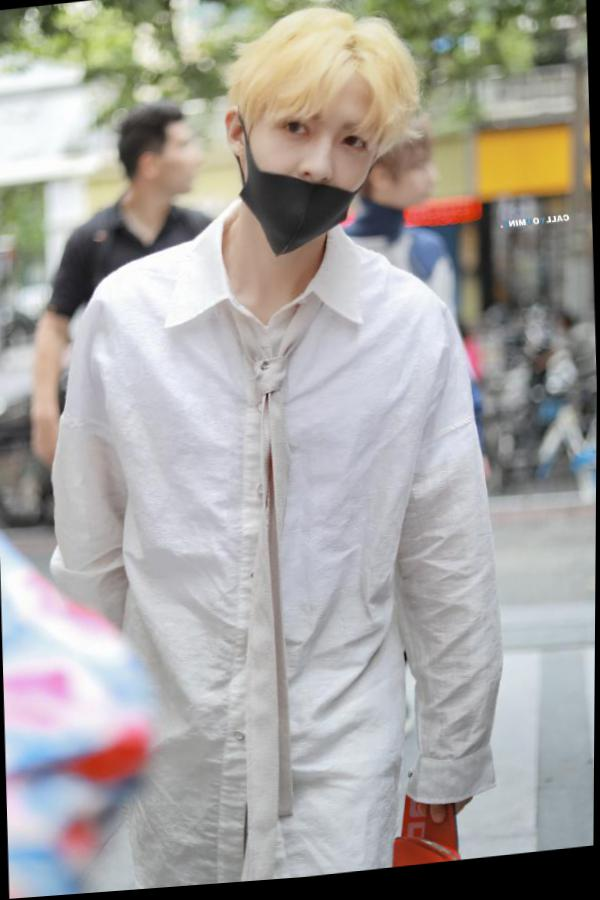NONE: (155, 135, 201, 200), (401, 155, 440, 214)
WRONG: (243, 112, 383, 256)
